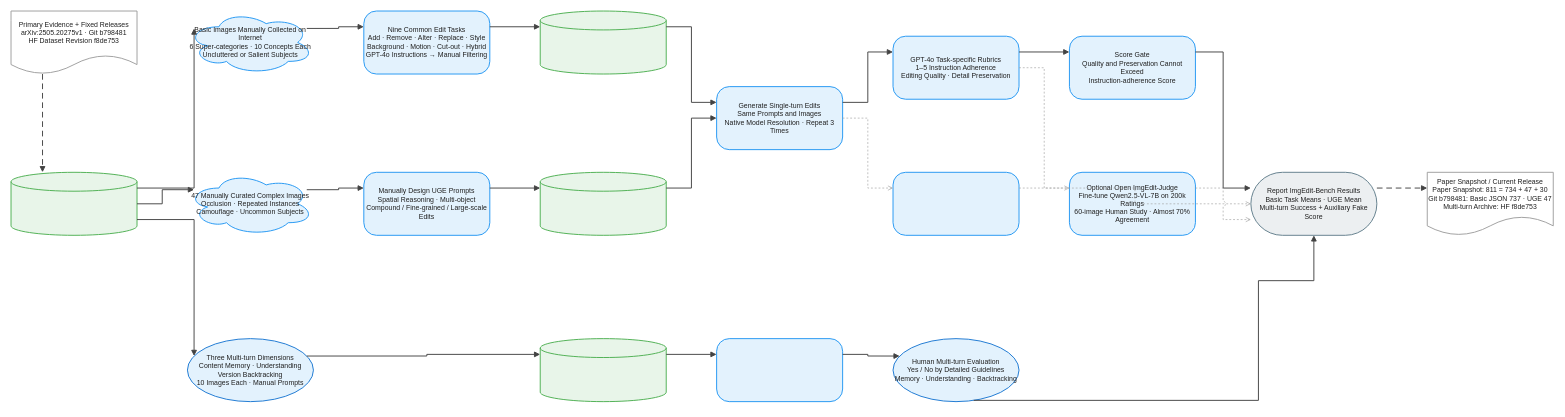
Some shapes in this 1565 by 417 pixel diagram are drawn without their labels. Each missing label, with the box of its shape:
Auxiliary FakeShield Artifact-localization Recall Quantifies Detectable Fakeness: (892, 172, 1019, 235)
Basic-Edit Suite 734 Test Cases Short-to-Elaborate Prompts: (539, 10, 666, 74)
Capability Design Basic Proficiency + Complex UGE Multi-turn Real-world Use: (10, 172, 137, 235)
Generate Sequential Edits Preserve Full Turn History and Versions: (716, 338, 843, 402)
Multi-turn Suite 30 Cases · 3 Interaction Turns Each: (539, 338, 666, 402)
UGE Suite 47 Difficult Single-turn Cases Understand + Ground + Edit: (539, 172, 666, 235)
